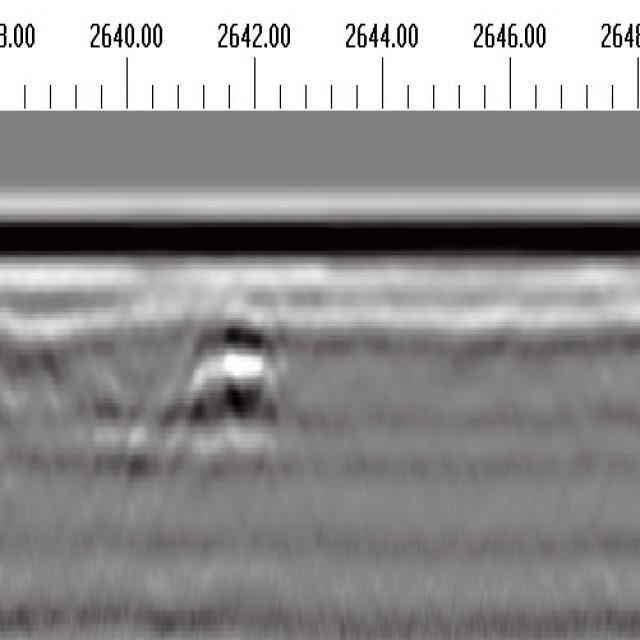loose: (11, 303, 282, 465)
